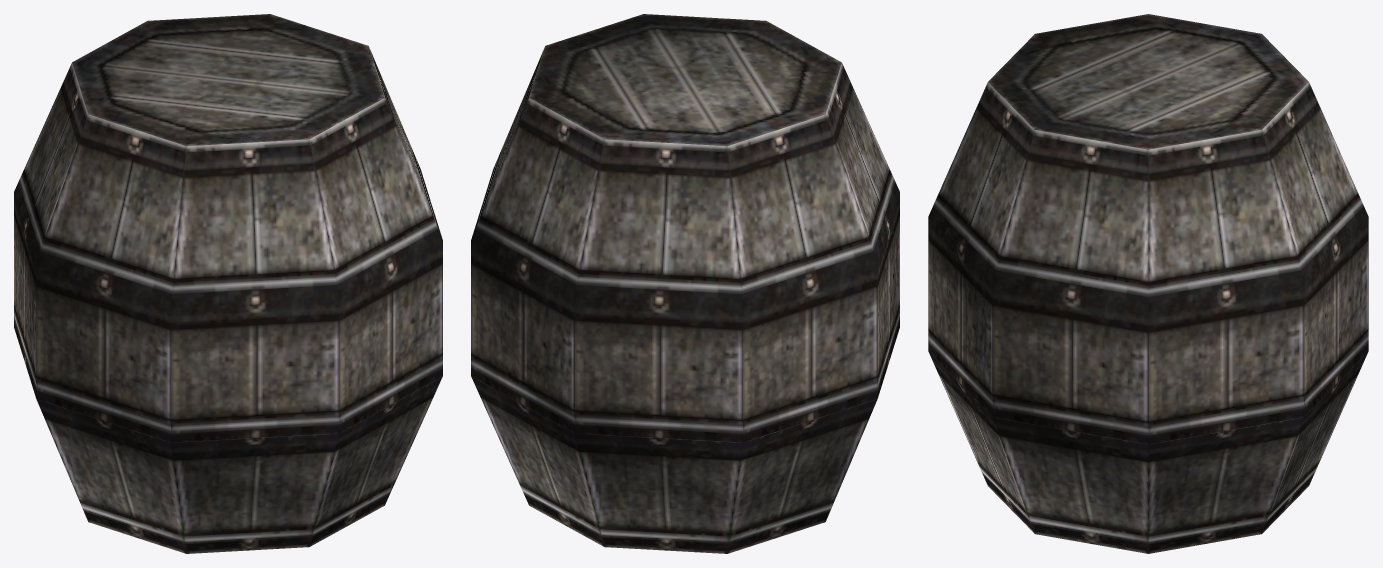
The picture shows the model from 3 angles, left to right: view 1: azimuth 30°, elevation 25°; view 2: azimuth 150°, elevation 25°; view 3: azimuth 270°, elevation 25°; orthographic projection.
Parts seen in each view (by area): view 1: objStaticMeshActor728; view 2: objStaticMeshActor728; view 3: objStaticMeshActor728.
Boxes of the visible parts, <box> form: objStaticMeshActor728: <box>14,14,442,553</box>; objStaticMeshActor728: <box>471,14,899,553</box>; objStaticMeshActor728: <box>928,14,1368,553</box>.
Size of the model in its own units: 47 by 47.63 by 47.
Materials: 1 (1 with a texture image).
